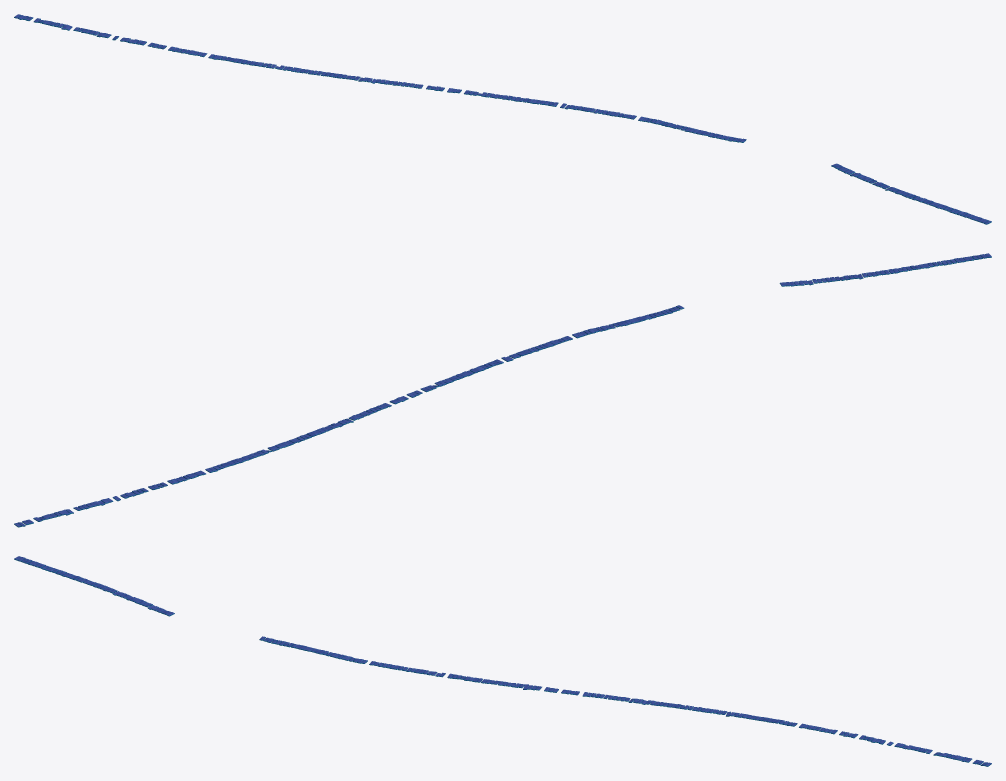
The model's file is arena_causeway_arms.glb.
3 views of the same model, one above another, from view 1: azimuth 90°, elevation 25°; view 2: azimuth 150°, elevation 25°; view 3: azimuth 270°, elevation 25° (orthographic). The views are drawn at different scales.
Parts seen in each view (by area): view 1: arena_causeway_arms; view 2: arena_causeway_arms; view 3: arena_causeway_arms.
Boxes of the visible parts, x1,y1,x2,y2 form: arena_causeway_arms: [14, 14, 991, 224]; arena_causeway_arms: [14, 253, 991, 527]; arena_causeway_arms: [14, 556, 991, 766].
Size of what is drawn, in the model's own units: 144 by 1.03 by 283.
